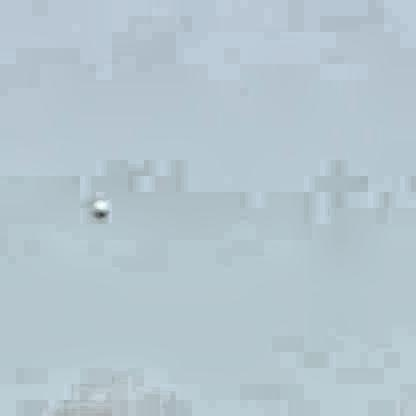golfball: (91, 192, 107, 214)
